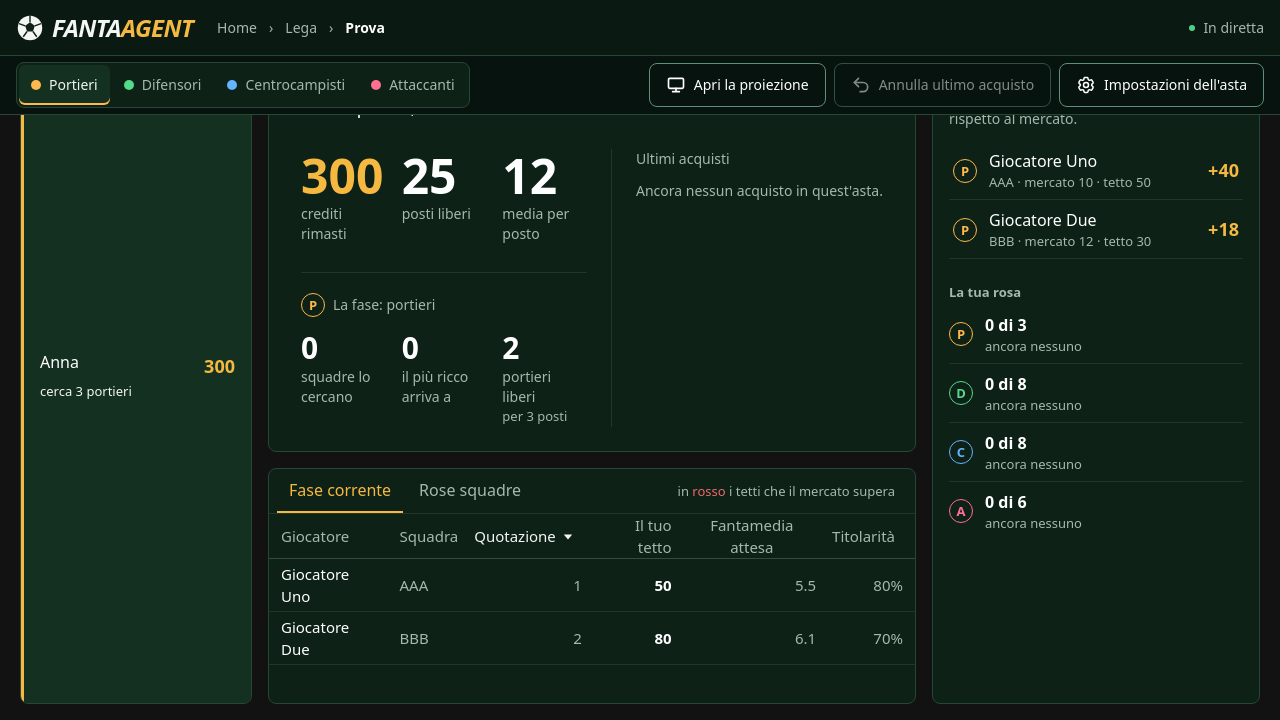
Test: AuctionRoute › un clic su un altra riga mentre il conto alla rovescia corre non cambia il lotto
The width and height of the screenshot is (1280, 720).
(page scrolled)
Click the button with aria-label "Valuta Giocatore Uno" at (328,585), box x1=269 y1=559 x2=388 y2=611
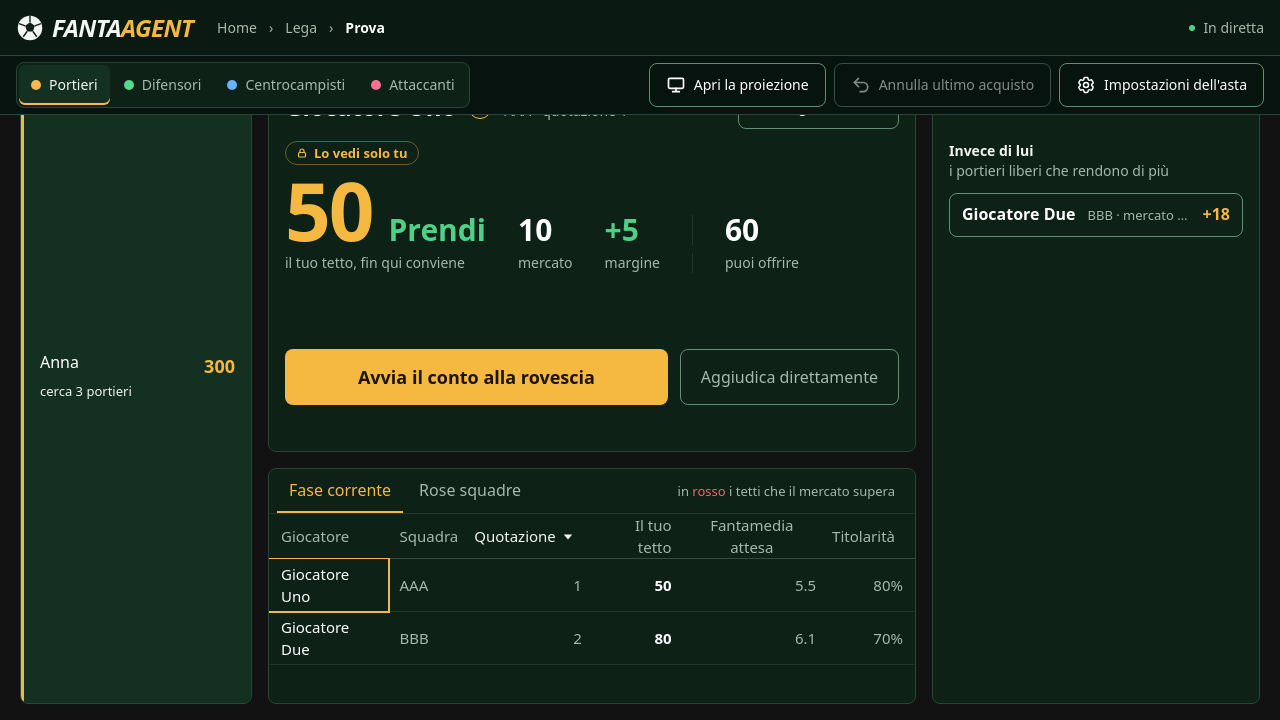
Check: the button "Avvia il conto alla rovescia" is enabled
Click the button "Avvia il conto alla rovescia" at (476,377), box x1=285 y1=349 x2=668 y2=405
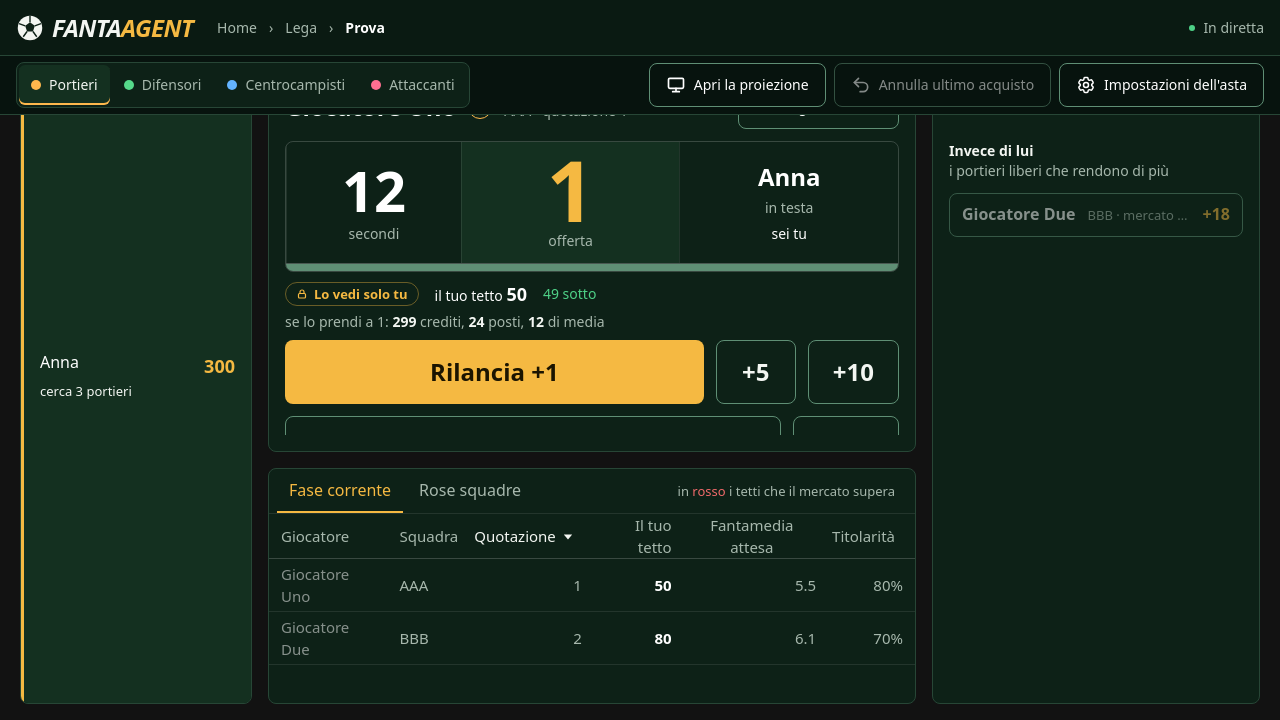
Check: the element with test id "bidder-dialog" is shown, box x1=285 y1=141 x2=899 y2=435
Check: the button with aria-label "Valuta Giocatore Due" is disabled
Click the button with aria-label "Valuta Giocatore Due" at (328,638), box x1=269 y1=612 x2=388 y2=664
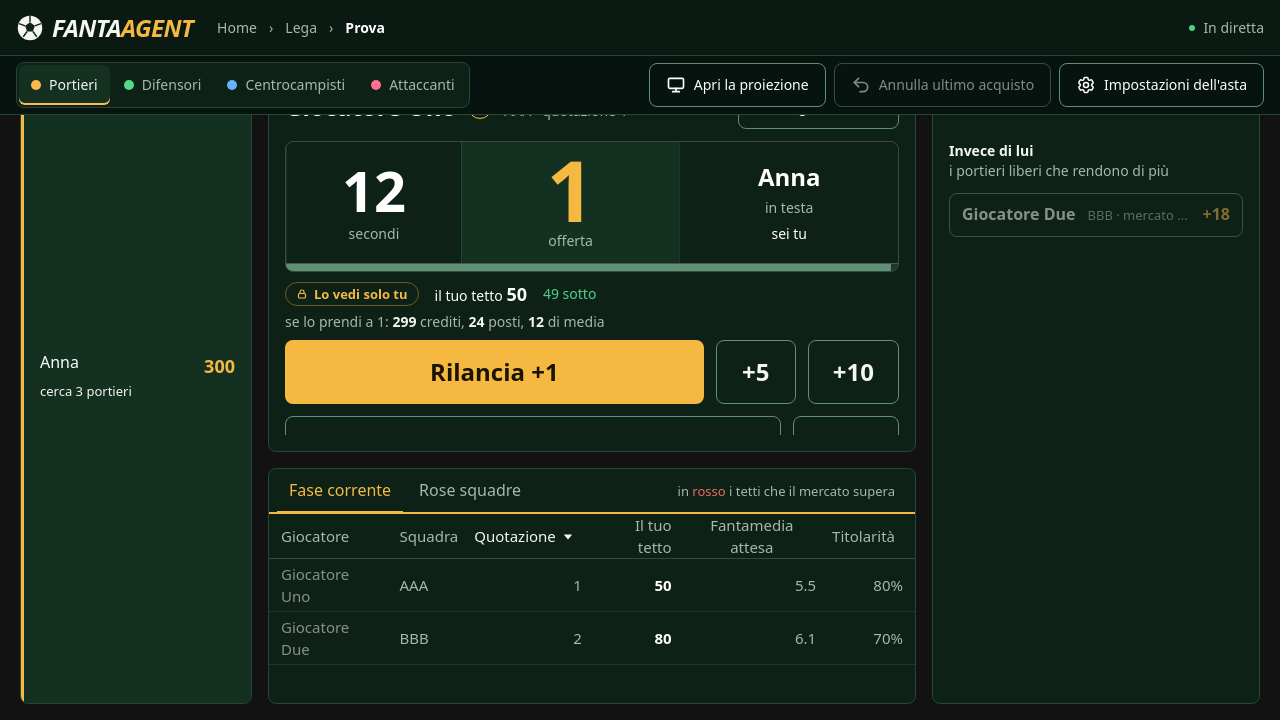
Check: the heading "Giocatore Uno" is shown, box x1=285 y1=91 x2=456 y2=123
Check: the element with test id "bidder-dialog" is shown, box x1=285 y1=141 x2=899 y2=435
Press Escape
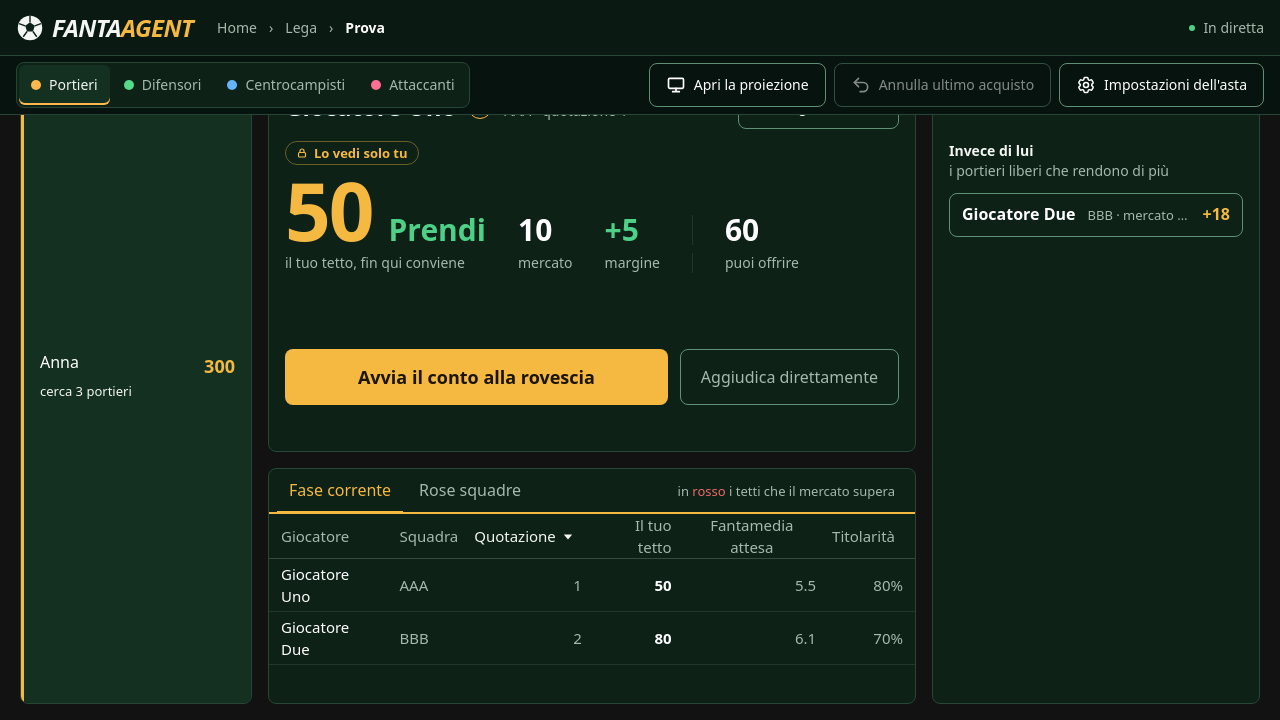
Click the button with aria-label "Valuta Giocatore Due" at (328,638), box x1=269 y1=612 x2=388 y2=664
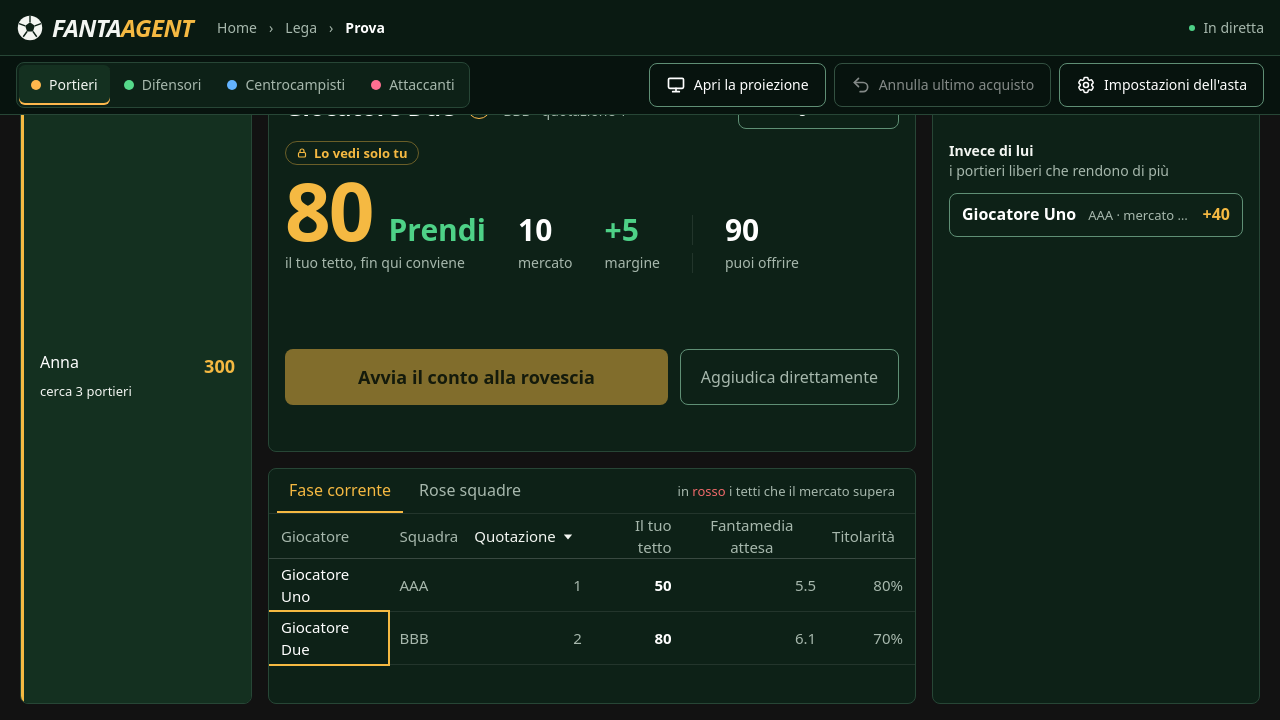
Check: the text with test id "max-bid" reads "80", box x1=285 y1=155 x2=372 y2=264
